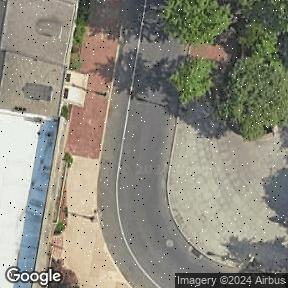vegetation: (163, 0, 288, 139)
